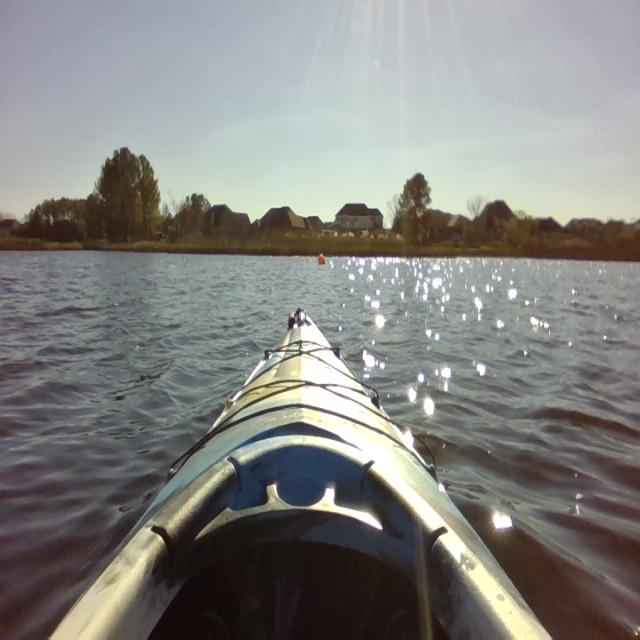Buoy: (314, 248, 328, 273)
